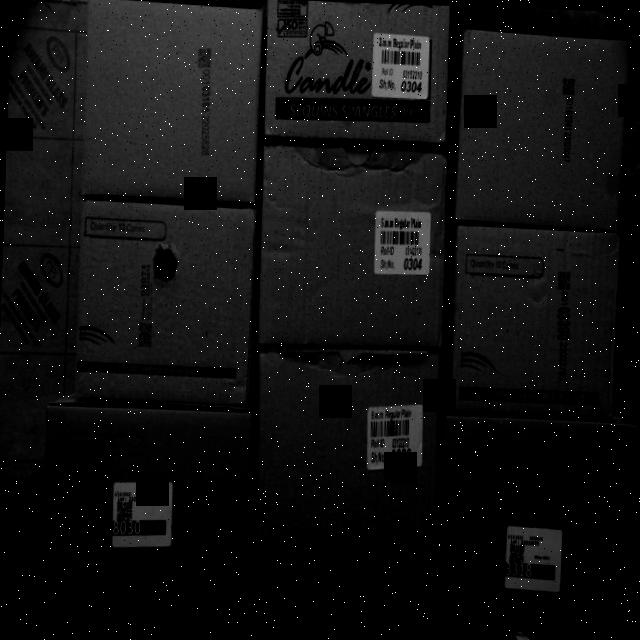box: (251, 342, 444, 616), (36, 401, 256, 614), (434, 411, 637, 621), (252, 140, 450, 350), (71, 200, 258, 408), (78, 0, 261, 205), (444, 222, 626, 420), (450, 29, 631, 227), (263, 0, 450, 142)
